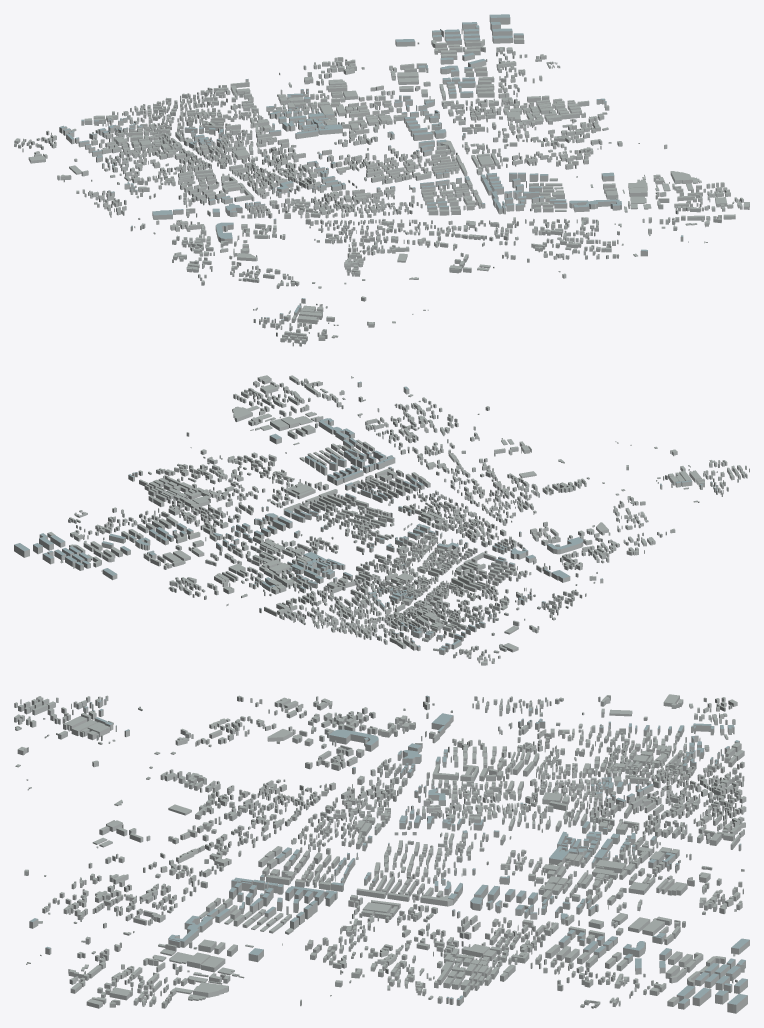
Rendered from far.glb.
3 renders of one model, top to bottom at view 1: azimuth 30°, elevation 25°; view 2: azimuth 150°, elevation 25°; view 3: azimuth 270°, elevation 25°, orthographic. The views are drawn at different scales.
Bounding box in the file's own units: 2153 × 32.2 × 2119.
